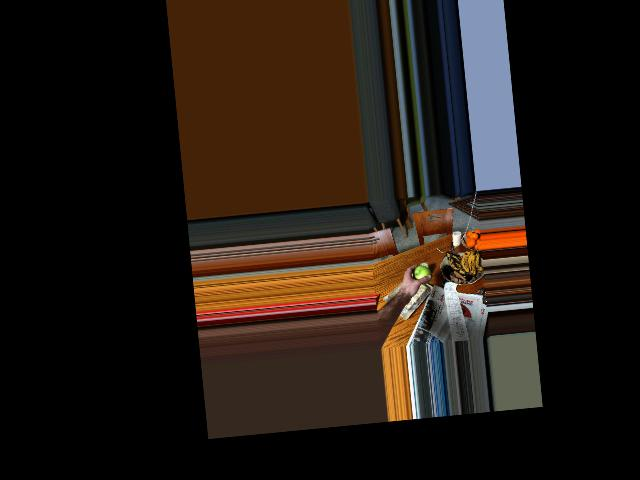apple: (410, 263, 432, 286)
